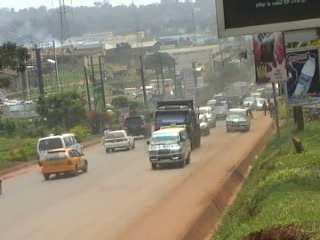Car: (39, 145, 89, 178), (122, 112, 152, 142), (101, 128, 135, 154), (197, 104, 217, 130), (196, 112, 211, 135), (211, 102, 225, 120), (241, 95, 256, 108)
Motorcycle: (101, 125, 111, 136)
